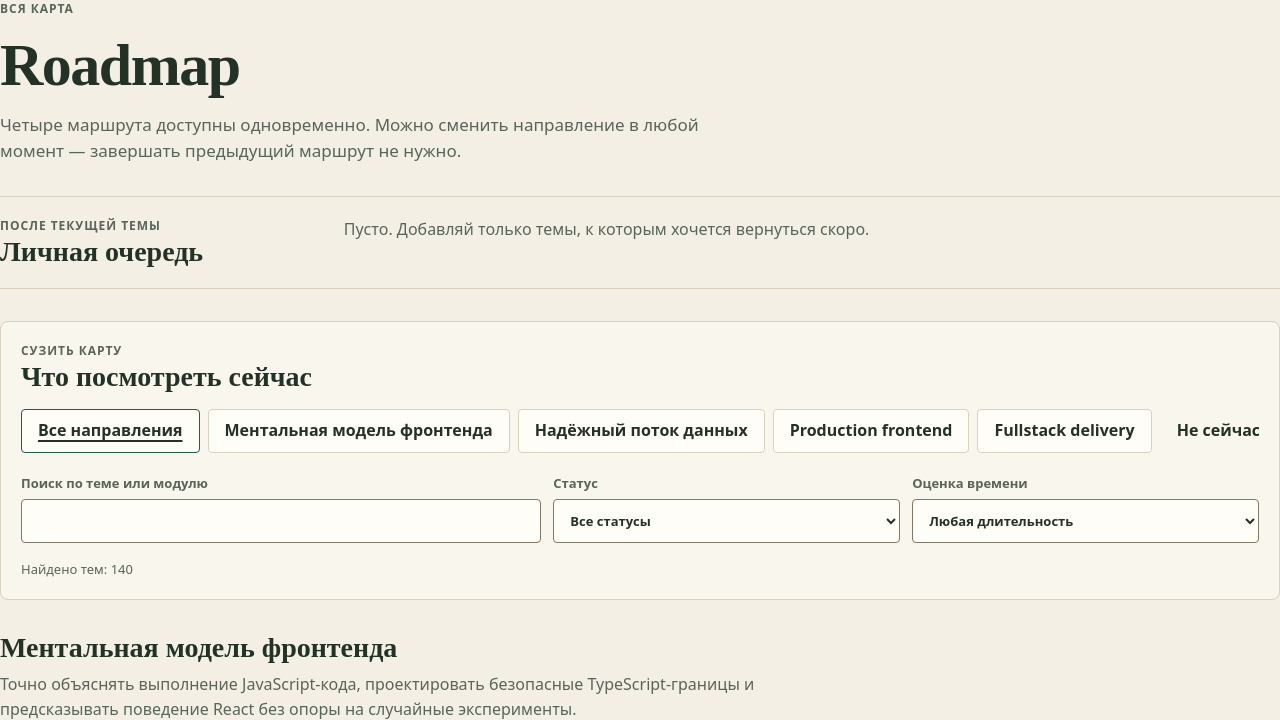
Test: RoadmapPage › adds a topic to the queue once and exposes a semantic remove control
Click the button "Ментальная модель фронтенда" at (359, 431), box [208,409,510,453]
(page scrolled)
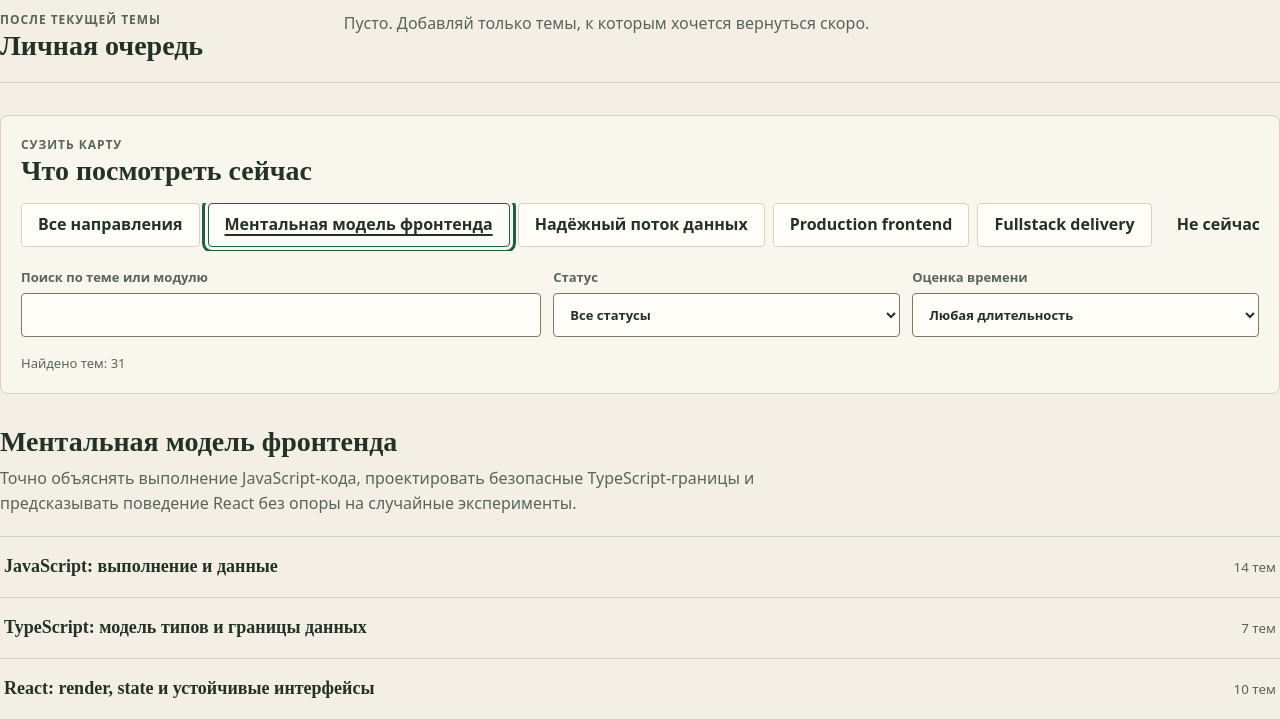
Click the heading "JavaScript: выполнение и данные 14 тем" at (141, 566), box [4,556,1276,576]
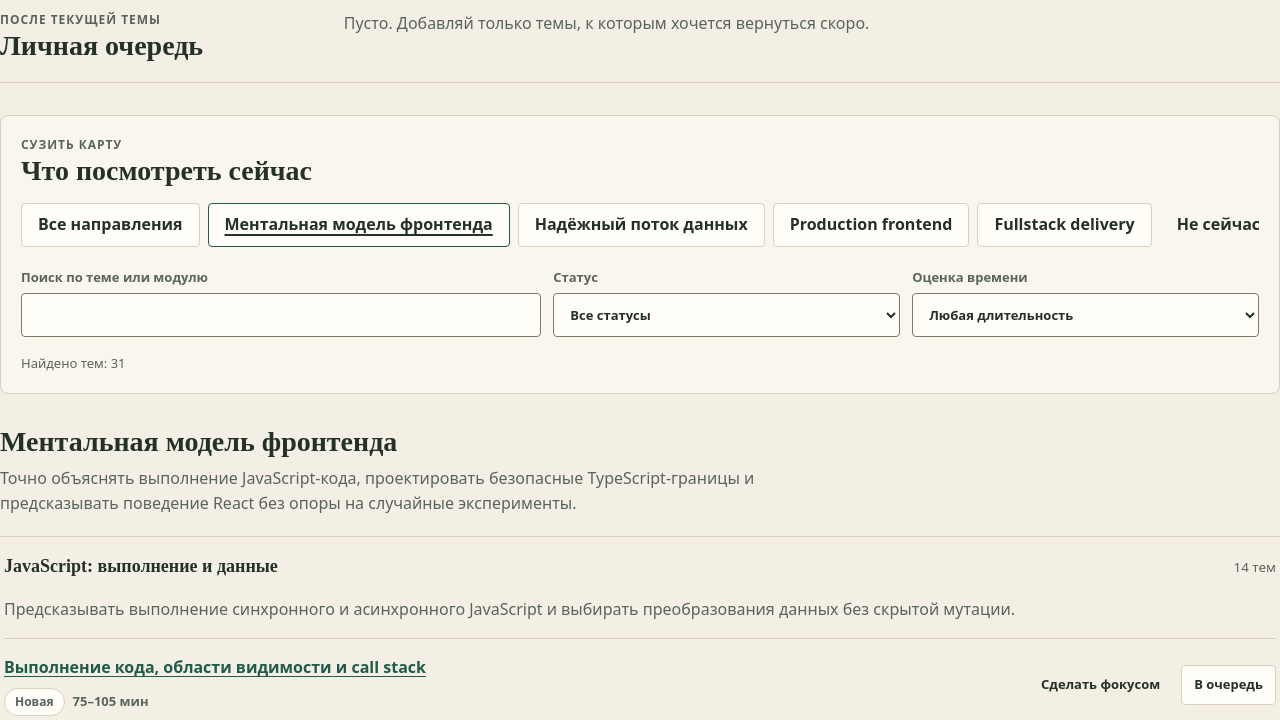
Click the button named "Добавить в очередь: Выполнение кода, области видимости и call stack" at (1229, 685), box [1181,665,1276,705]
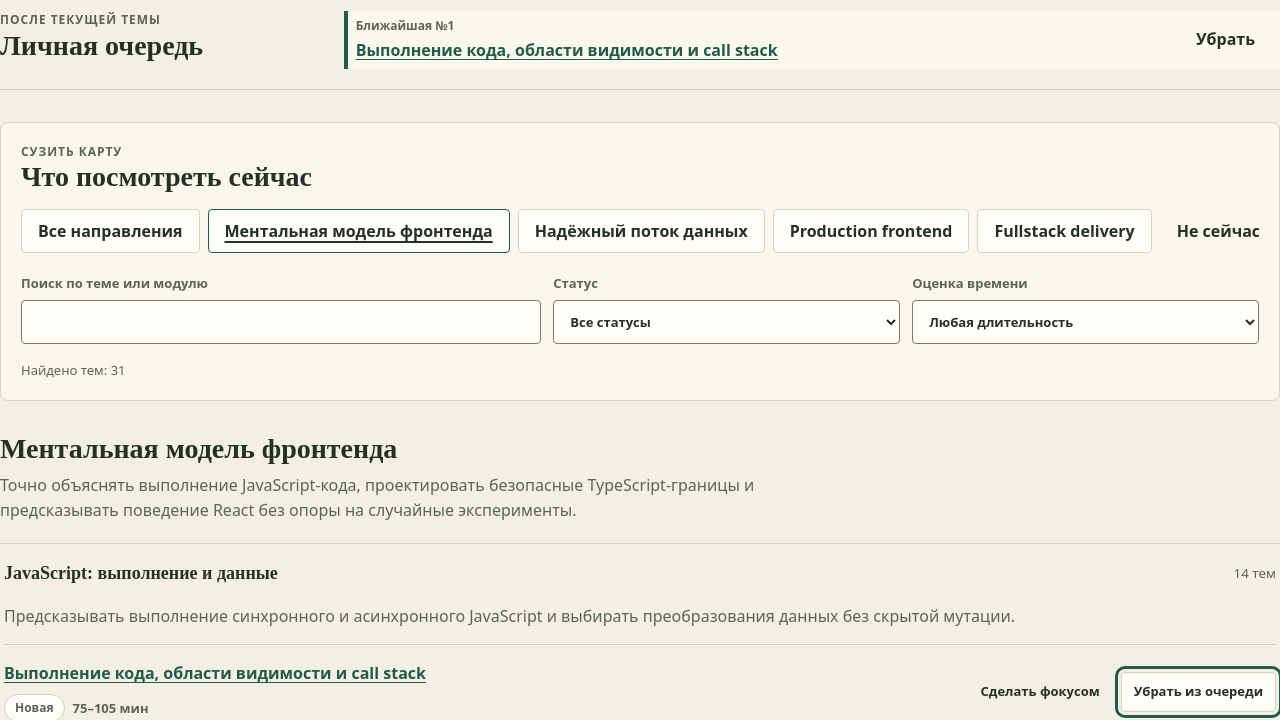
Check: the button named "Убрать из очереди: Выполнение кода, области видимости и call stack" is shown, box [1121,672,1276,712]
Check: the number of links "Выполнение кода, области видимости и call stack" is 1, box [356,38,778,63]
